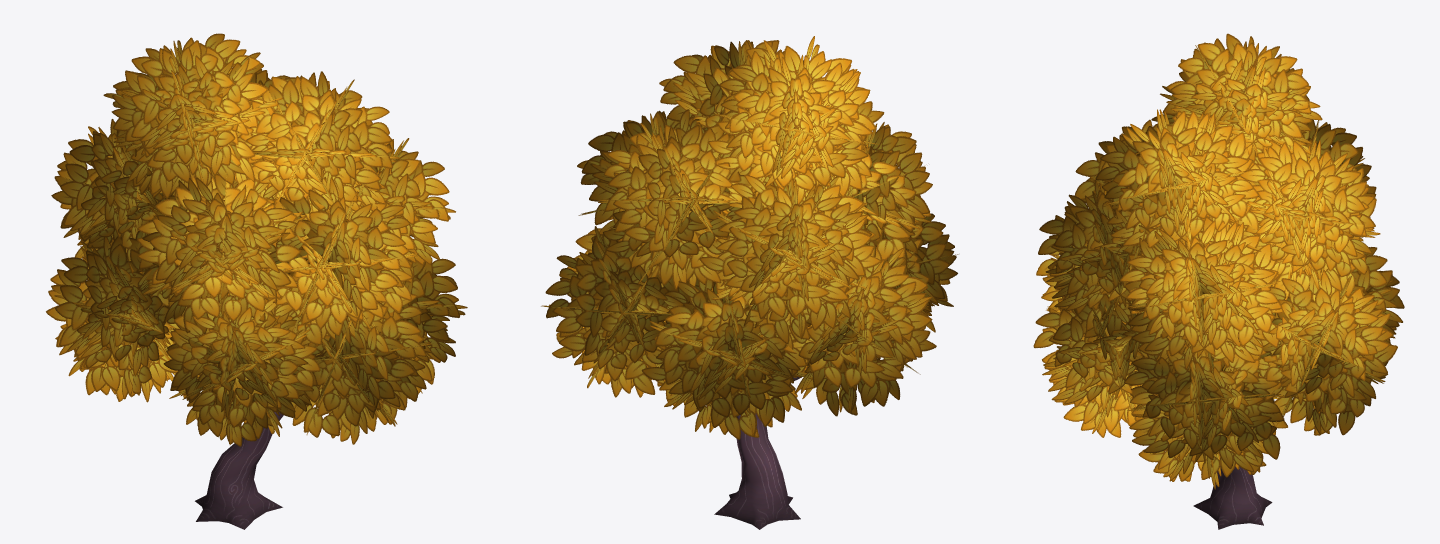
File: LeafTree3.fbx
3 views of the same model, side by side, from view 1: azimuth 30°, elevation 25°; view 2: azimuth 150°, elevation 25°; view 3: azimuth 270°, elevation 25° (orthographic). The views are drawn at different scales.
Visible parts, largest first — view 1: LeafTree3; view 2: LeafTree3; view 3: LeafTree3.
Part boxes in pixels (box(x1,y1,x2,y2)): LeafTree3: box(46, 33, 467, 529); LeafTree3: box(541, 36, 958, 529); LeafTree3: box(1033, 33, 1404, 529).
Bounding box in the file's own units: 33.77 × 39.13 × 31.15.
